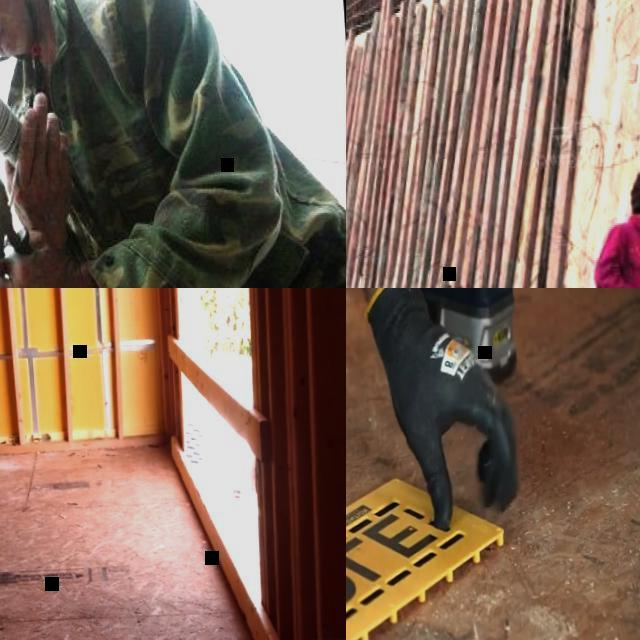no_helmet: (629, 167, 640, 218)
no_mask: (0, 0, 30, 57)
no_vest: (7, 0, 317, 288), (597, 226, 640, 288)
person: (0, 0, 346, 288), (346, 288, 533, 640), (588, 163, 640, 288)
